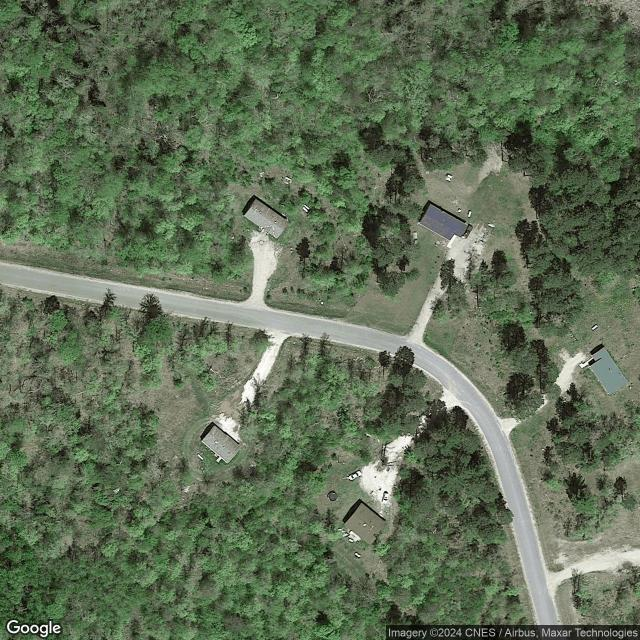Propane: (353, 550, 363, 560), (195, 452, 205, 462), (283, 175, 293, 183), (303, 203, 312, 211), (301, 205, 309, 214), (466, 209, 473, 219), (591, 324, 599, 332)
